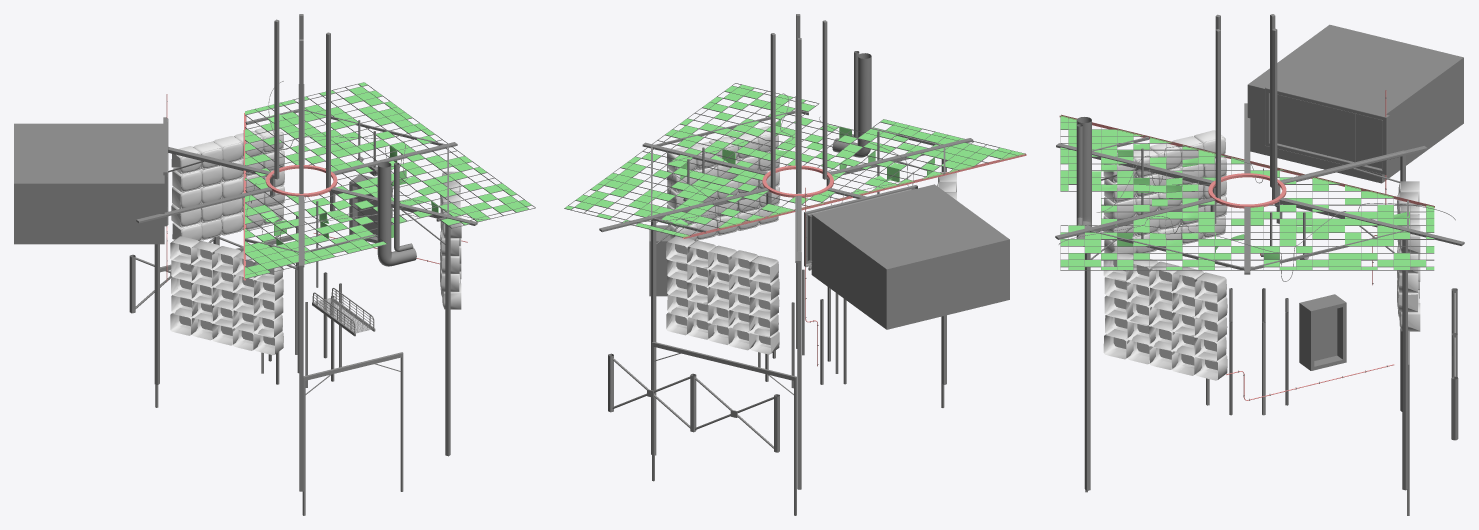
The model's file is Musical Memory.fbx.
3 views of the same model, side by side, from view 1: azimuth 30°, elevation 25°; view 2: azimuth 150°, elevation 25°; view 3: azimuth 270°, elevation 25° (orthographic). The views are drawn at different scales.
Parts seen in each view (by area): view 1: Room, Main_Plane_012, tv_fix.002, Main_Plane_012.001, tv_fix.001, Main_Cube_011, Main_Cube_028.003, Main_Cube_028, tv_fix, Main_Cube_028.001, Main_Cylinder_027, Short_Arch (+6 smaller); view 2: Room, Main_Plane_012, tv_fix.002, Main_Plane_012.001, tv_fix.001, tv_fix, Main_Cube_011, Main_Cube_028.003, Main_Cube_028.004, Main_Cube_037, Main_Stage_Structure_Pillars, Main_Plane_012.002 (+7 smaller); view 3: Room, Main_Plane_012, tv_fix.002, Main_Plane_012.001, tv_fix.001, Main_Window_Glass, Main_Cube_011, Main_Cube_028, tv_fix, Main_Cube_028.004, Main_Sphere_006, Main_Window_Frame (+9 smaller).
Boxes of the visible parts, bbox=[...] form: Room: bbox=[14, 123, 164, 244]; Main_Plane_012: bbox=[245, 82, 531, 278]; tv_fix.002: bbox=[170, 128, 461, 355]; Main_Plane_012.001: bbox=[245, 82, 535, 278]; tv_fix.001: bbox=[180, 132, 444, 339]; Main_Cube_011: bbox=[136, 84, 477, 267]; Main_Cube_028.003: bbox=[154, 19, 279, 384]; Main_Cube_028: bbox=[326, 32, 450, 456]; tv_fix: bbox=[179, 244, 274, 345]; Main_Cube_028.001: bbox=[299, 39, 303, 491]; Main_Cylinder_027: bbox=[377, 162, 416, 266]; Short_Arch: bbox=[302, 352, 403, 515]; Room: bbox=[811, 184, 1009, 329]; Main_Plane_012: bbox=[565, 85, 1024, 237]; tv_fix.002: bbox=[666, 126, 956, 354]; Main_Plane_012.001: bbox=[564, 83, 1025, 237]; tv_fix.001: bbox=[676, 134, 939, 324]; tv_fix: bbox=[675, 190, 778, 344]; Main_Cube_011: bbox=[599, 96, 973, 262]; Main_Cube_028.003: bbox=[797, 38, 801, 489]; Main_Cube_028.004: bbox=[651, 33, 775, 455]; Main_Cube_037: bbox=[652, 342, 796, 515]; Main_Stage_Structure_Pillars: bbox=[758, 269, 838, 388]; Main_Plane_012.002: bbox=[683, 153, 1026, 238]; Room: bbox=[1247, 24, 1463, 183]; Main_Plane_012: bbox=[1060, 115, 1434, 269]; tv_fix.002: bbox=[1103, 130, 1420, 380]; Main_Plane_012.001: bbox=[1060, 117, 1434, 270]; tv_fix.001: bbox=[1113, 138, 1401, 359]; Main_Window_Glass: bbox=[1277, 94, 1382, 168]; Main_Cube_011: bbox=[1055, 103, 1464, 274]; Main_Cube_028: bbox=[1084, 29, 1220, 490]; tv_fix: bbox=[1113, 215, 1227, 372]; Main_Cube_028.004: bbox=[1272, 28, 1407, 490]; Main_Sphere_006: bbox=[1299, 294, 1346, 370]; Main_Window_Frame: bbox=[1265, 85, 1389, 175].
Size of what is drawn, in the model's own units: 3859 by 3794 by 3087.
